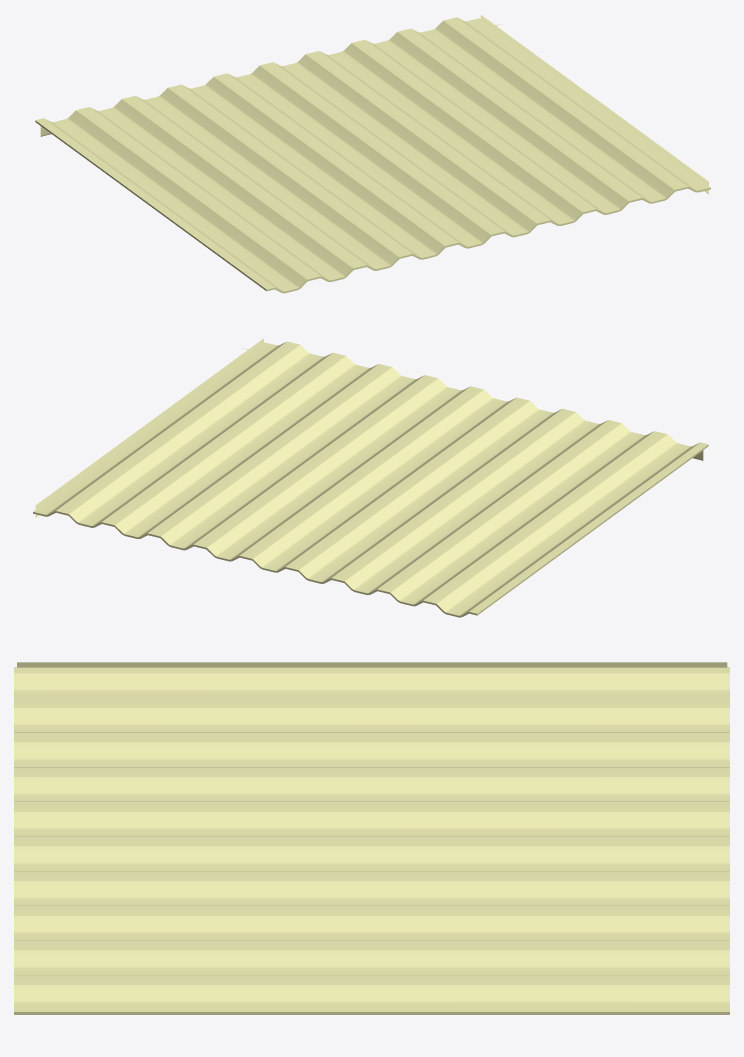
Rendered from ceiling.glb.
The picture shows the model from 3 angles, top to bottom: view 1: azimuth 30°, elevation 25°; view 2: azimuth 150°, elevation 25°; view 3: azimuth 270°, elevation 25°; orthographic projection. The views are drawn at different scales.
Visible parts, largest first — view 1: 10FT Container_Sprayfoam_RearTop; view 2: 10FT Container_Sprayfoam_RearTop; view 3: 10FT Container_Sprayfoam_RearTop.
Part boxes in pixels (x1=…): 10FT Container_Sprayfoam_RearTop: x1=35, y1=15, x2=710, y2=293; 10FT Container_Sprayfoam_RearTop: x1=33, y1=338, x2=708, y2=617; 10FT Container_Sprayfoam_RearTop: x1=14, y1=662, x2=729, y2=1014.
Bounding box in the file's own units: 2.89 × 0.1049 × 2.37.
